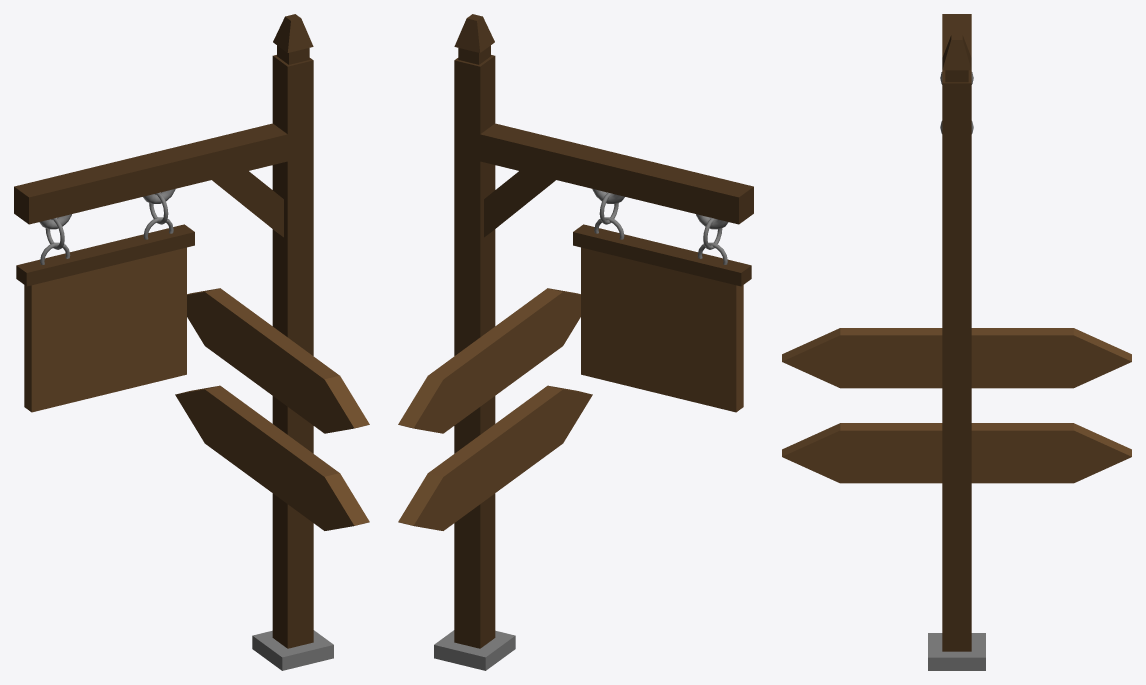
The model's file is Signs.glb.
The picture shows the model from 3 angles, left to right: view 1: azimuth 30°, elevation 25°; view 2: azimuth 150°, elevation 25°; view 3: azimuth 270°, elevation 25°; orthographic projection. The views are drawn at different scales.
Visible parts, largest first — view 1: Cube (×13); view 2: Cube (×13); view 3: Cube (×10).
Part boxes in pixels (x1,y1,x2,y2): Cube (×13): (14,14,369,670); Cube (×13): (398,14,753,670); Cube (×10): (782,14,1131,670).
Size of the model in its own units: 1.15 by 2.35 by 1.2.
